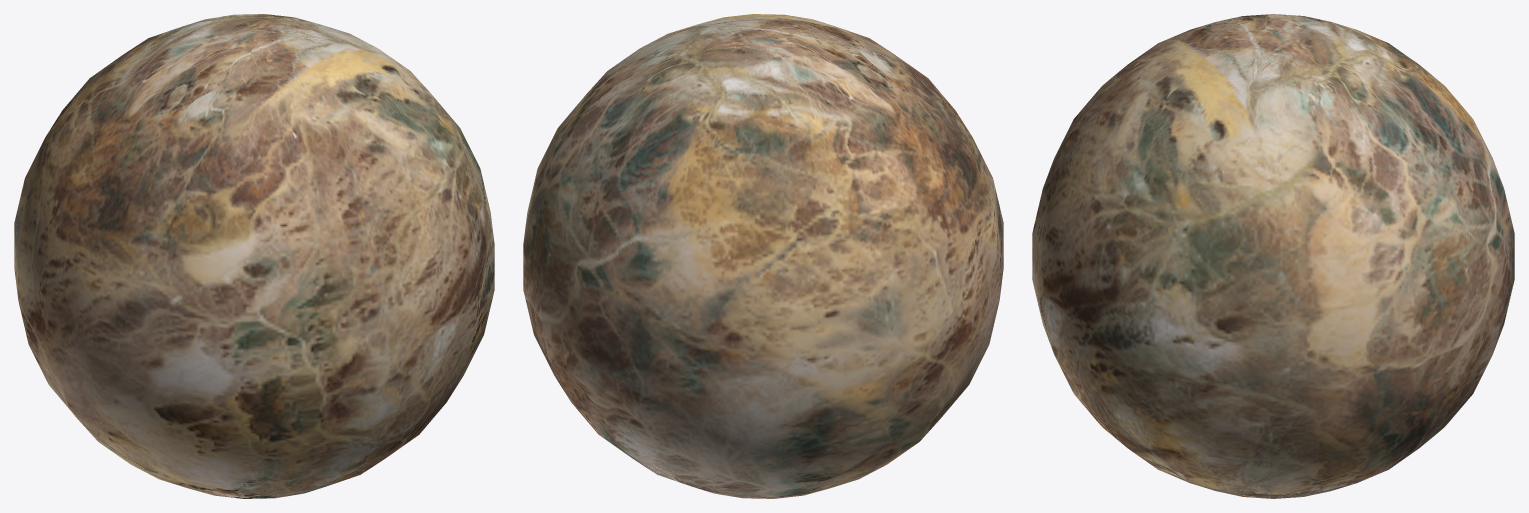
Rendered from AsteroidR.obj.
3 renders of one model, left to right at view 1: azimuth 30°, elevation 25°; view 2: azimuth 150°, elevation 25°; view 3: azimuth 270°, elevation 25°, orthographic.
Bounding box in the file's own units: 1.99 × 2 × 1.99.
Materials: 1 (1 with a texture image).
